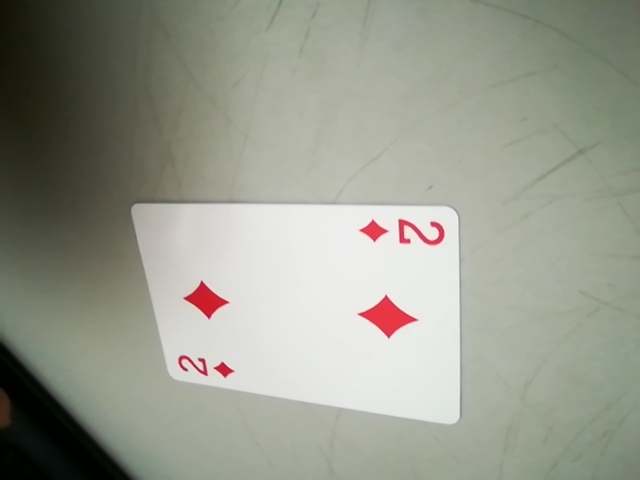fk 2: (357, 213, 451, 255), (168, 347, 243, 385)
